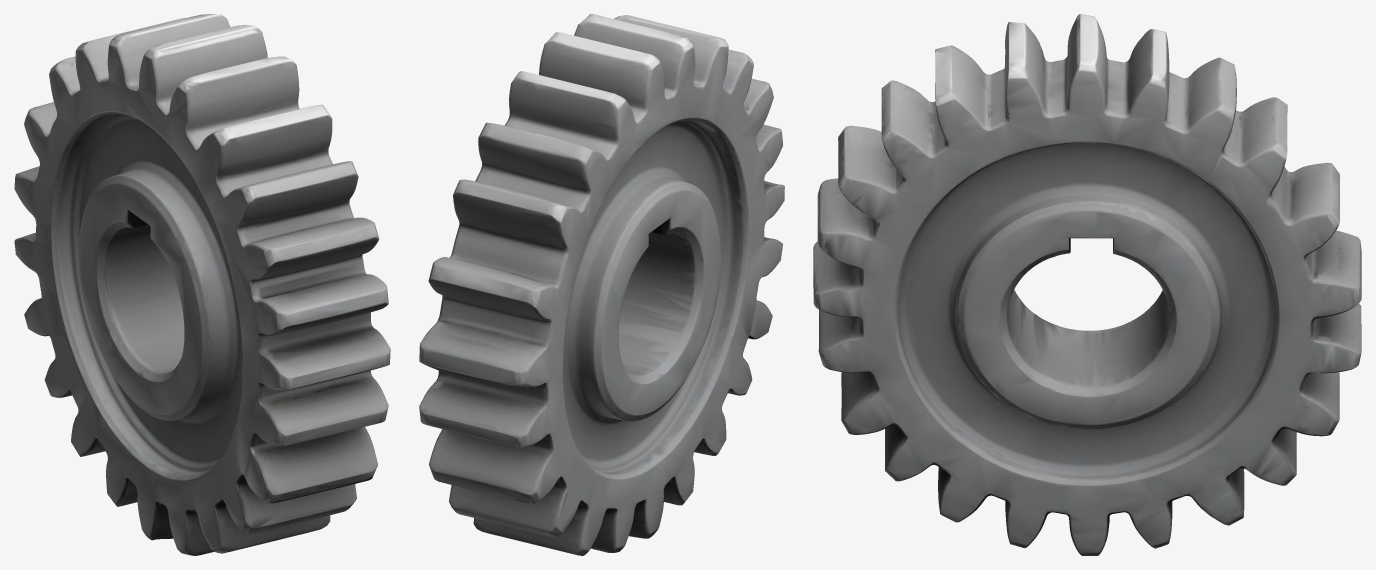
The model's file is gear.glb.
3 views of the same model, side by side, from view 1: azimuth 30°, elevation 25°; view 2: azimuth 150°, elevation 25°; view 3: azimuth 270°, elevation 25° (orthographic). The views are drawn at different scales.
Parts seen in each view (by area): view 1: node_0; view 2: node_0; view 3: node_0.
Part boxes in pixels (x1,y1,x2,y2): node_0: [14, 14, 390, 555]; node_0: [419, 14, 784, 555]; node_0: [813, 14, 1361, 555].
Bounding box in the file's own units: 0.2946 × 1.13 × 1.13.
1 material, 1 textured.
